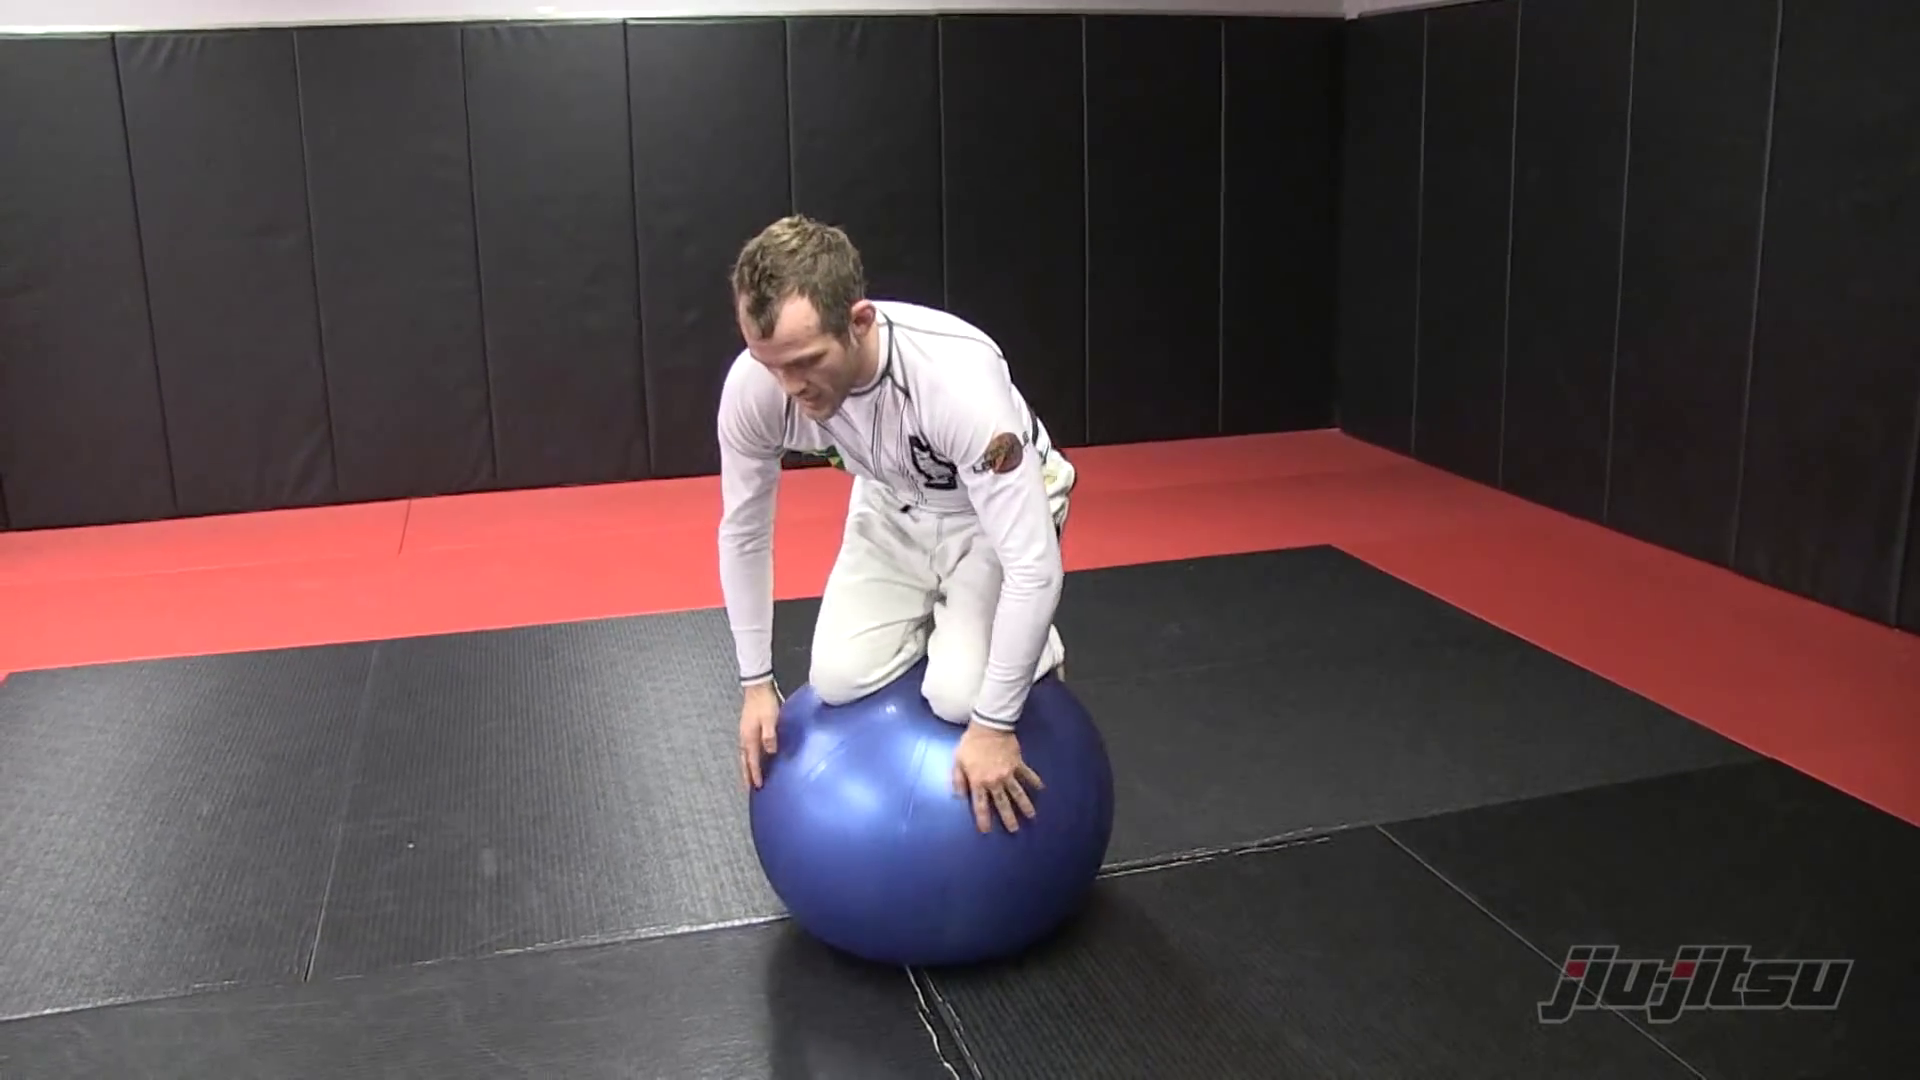yogaball: (733, 651, 1133, 978)
